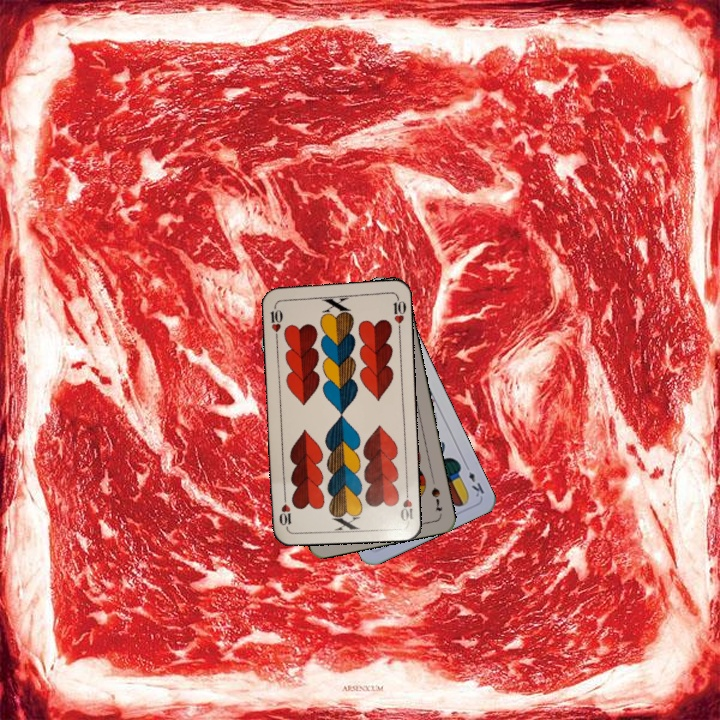EK: (461, 460, 487, 500)
H10: (396, 483, 416, 524), (266, 301, 285, 341)
S7: (427, 483, 445, 514)
